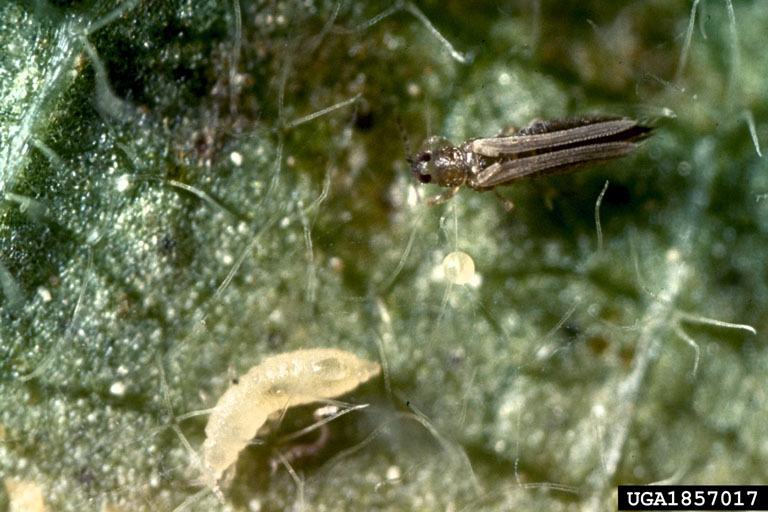Thrips: (174, 350, 396, 479), (402, 109, 662, 198)
